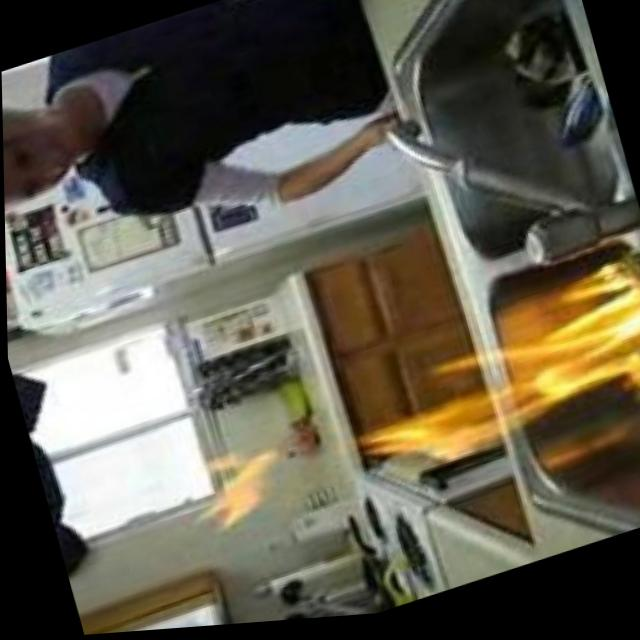Fire: (322, 265, 640, 501), (175, 421, 299, 539)
